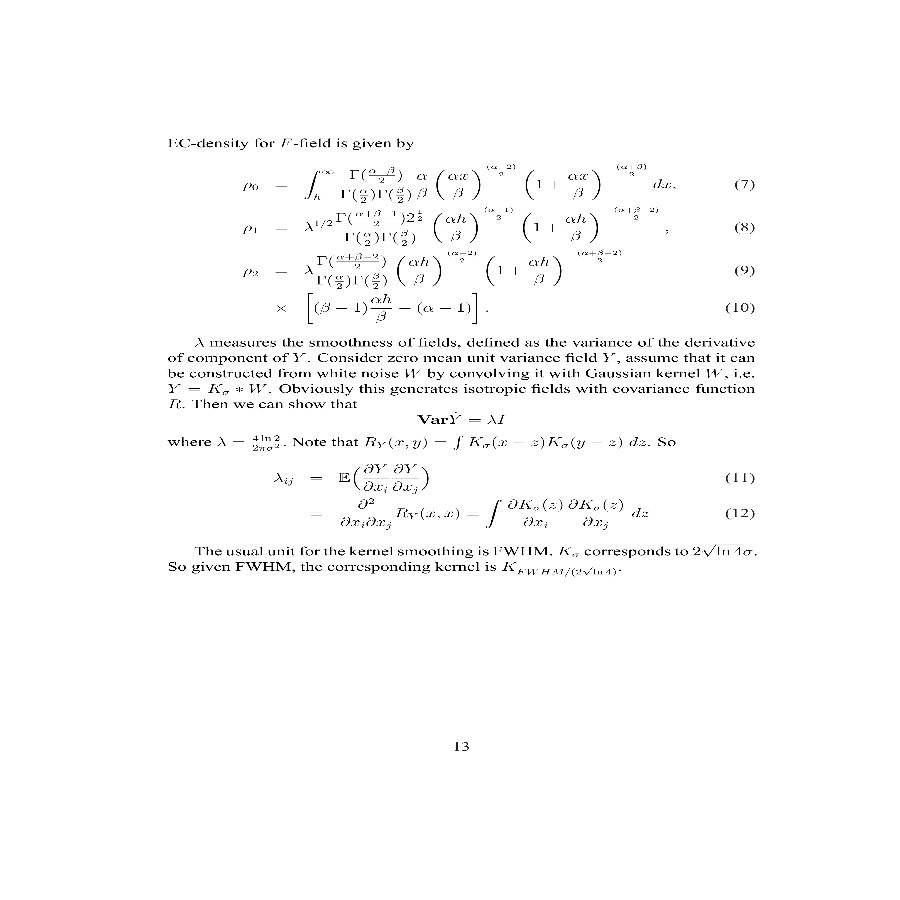eq: (225, 163, 681, 329), (259, 460, 657, 533), (405, 409, 513, 430)
